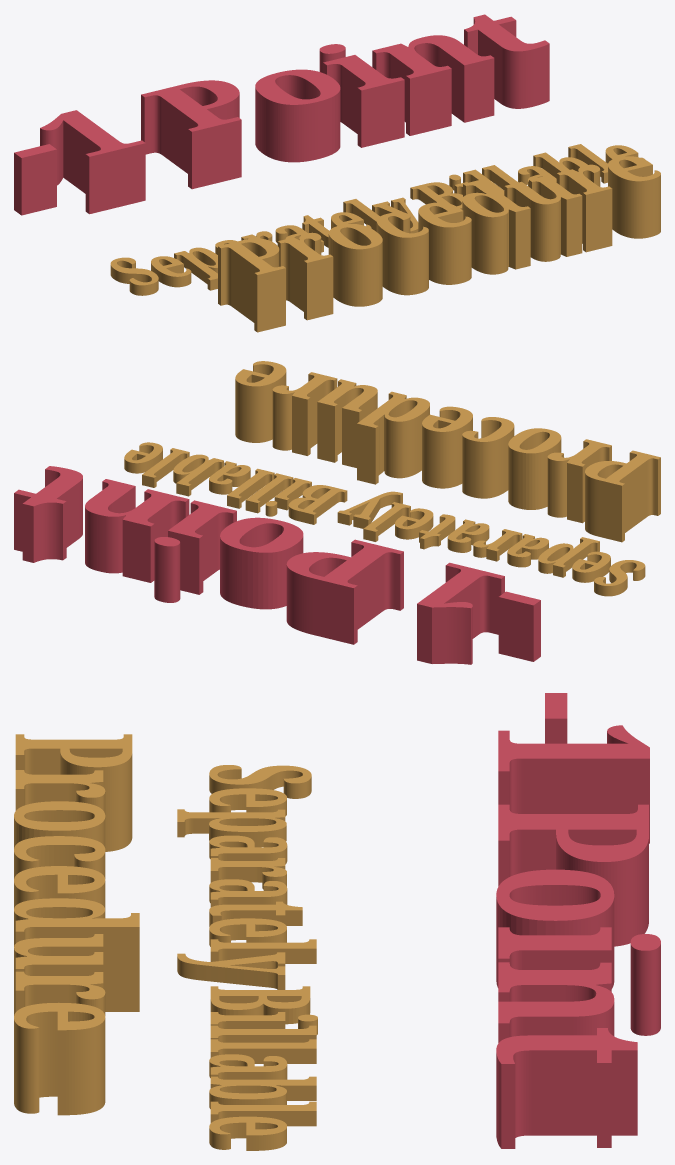
The model's file is neggcrit.gltf.
3 views of the same model, one above another, from view 1: azimuth 30°, elevation 25°; view 2: azimuth 150°, elevation 25°; view 3: azimuth 270°, elevation 25° (orthographic). The views are drawn at different scales.
Parts seen in each view (by area): view 1: Mesh_Mesh_head_geo.001_lambert2SG.001; view 2: Mesh_Mesh_head_geo.001_lambert2SG.001; view 3: Mesh_Mesh_head_geo.001_lambert2SG.001.
Boxes of the visible parts, x1,y1,x2,y2 form: Mesh_Mesh_head_geo.001_lambert2SG.001: [14, 14, 660, 332]; Mesh_Mesh_head_geo.001_lambert2SG.001: [14, 361, 660, 664]; Mesh_Mesh_head_geo.001_lambert2SG.001: [14, 693, 660, 1150].
Size of the model in its own units: 94 by 10 by 68.95.
